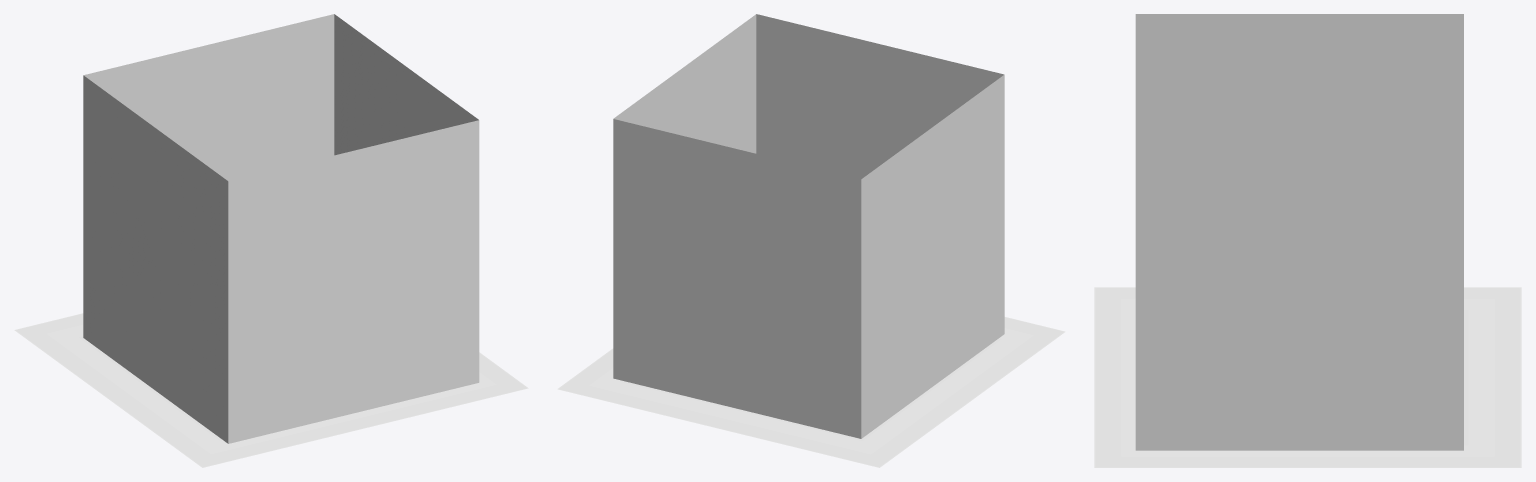
Rendered from tile_highlight.fbx.
The picture shows the model from 3 angles, left to right: view 1: azimuth 30°, elevation 25°; view 2: azimuth 150°, elevation 25°; view 3: azimuth 270°, elevation 25°; orthographic projection. The views are drawn at different scales.
Parts seen in each view (by area): view 1: tile_beacon_inside, tile_beacon_outside, tile_highlight_square; view 2: tile_beacon_inside, tile_beacon_outside, tile_highlight_square; view 3: tile_beacon_inside, tile_beacon_outside, tile_highlight_square.
Boxes of the visible parts, x1,y1,x2,y2 form: tile_beacon_inside: [83, 14, 479, 443]; tile_beacon_outside: [83, 14, 479, 443]; tile_highlight_square: [14, 313, 528, 467]; tile_beacon_inside: [613, 14, 1004, 438]; tile_beacon_outside: [613, 14, 1004, 438]; tile_highlight_square: [557, 317, 1065, 467]; tile_beacon_inside: [1135, 14, 1463, 450]; tile_beacon_outside: [1135, 14, 1463, 450]; tile_highlight_square: [1094, 287, 1521, 467].
Bounding box in the file's own units: 130 × 100 × 130.
